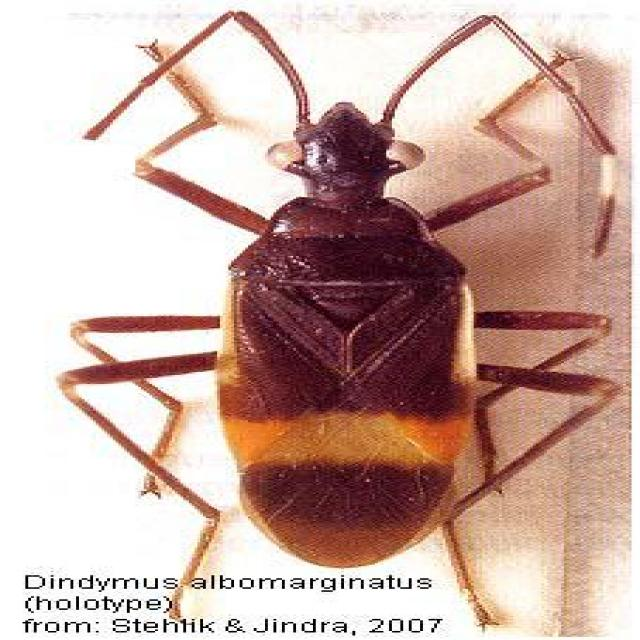Miridae-Adult-: (61, 9, 626, 574)
